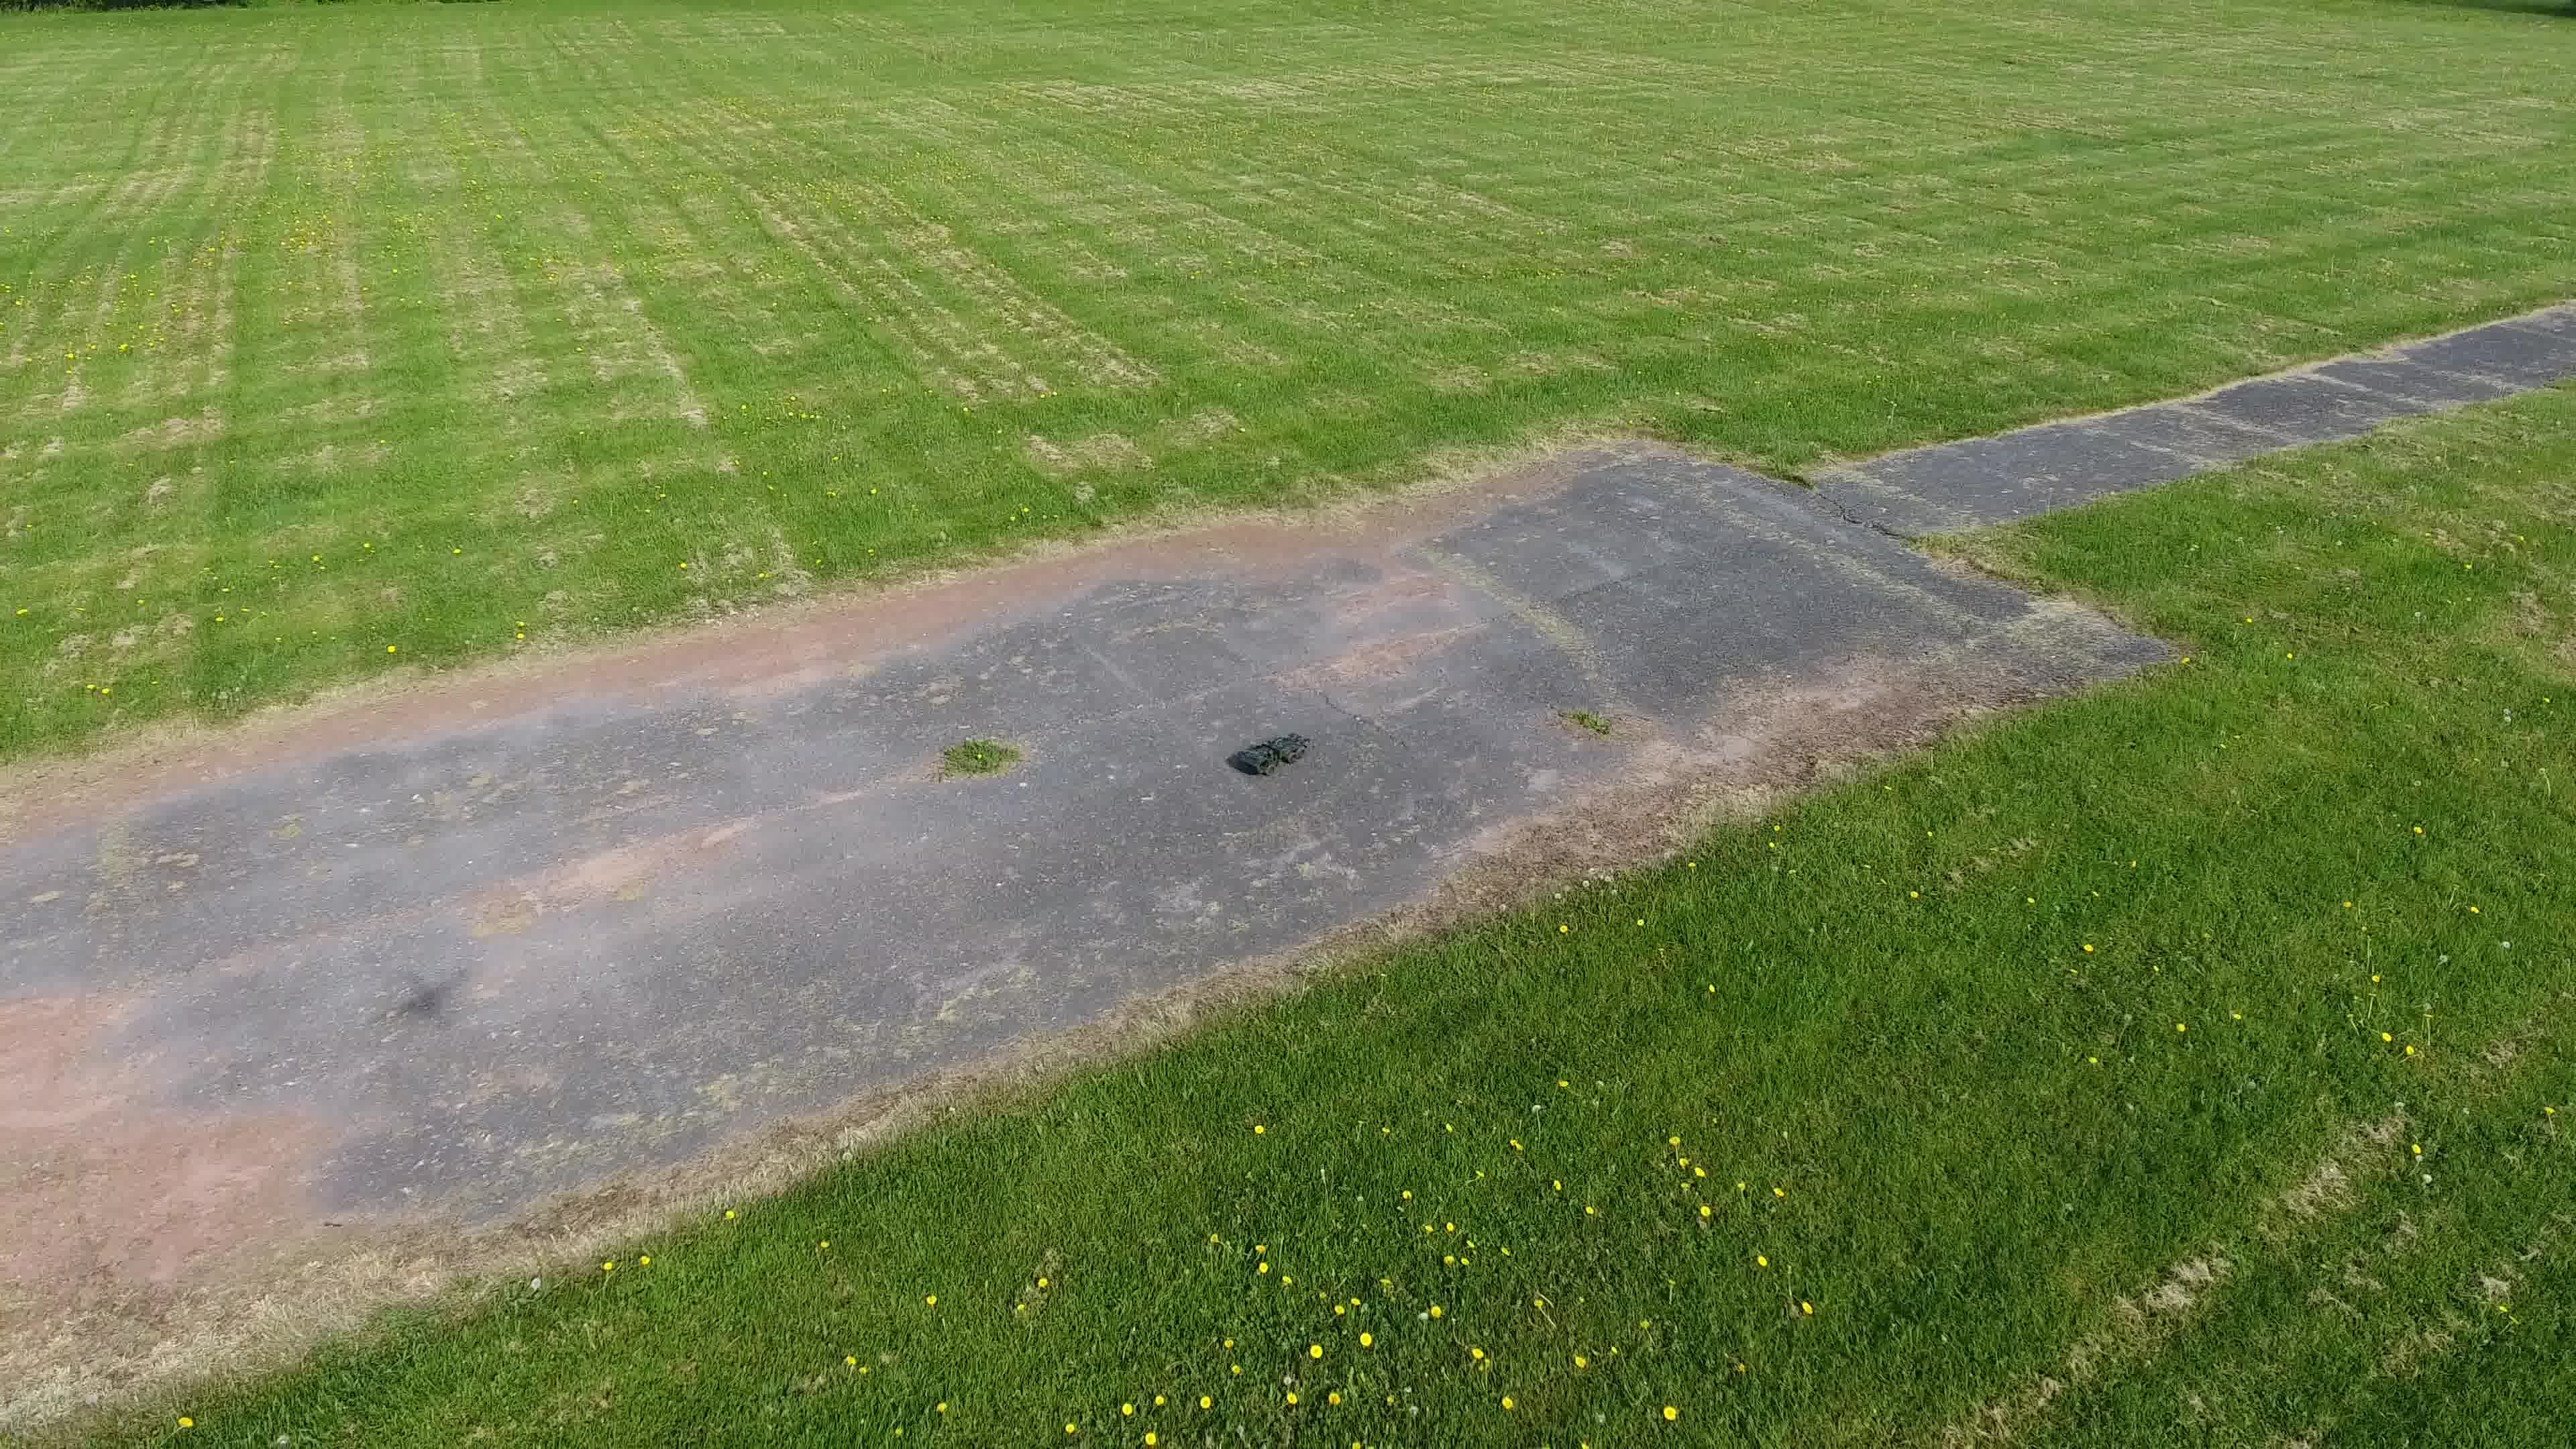transporter9_camo: (1233, 729, 1313, 777)
